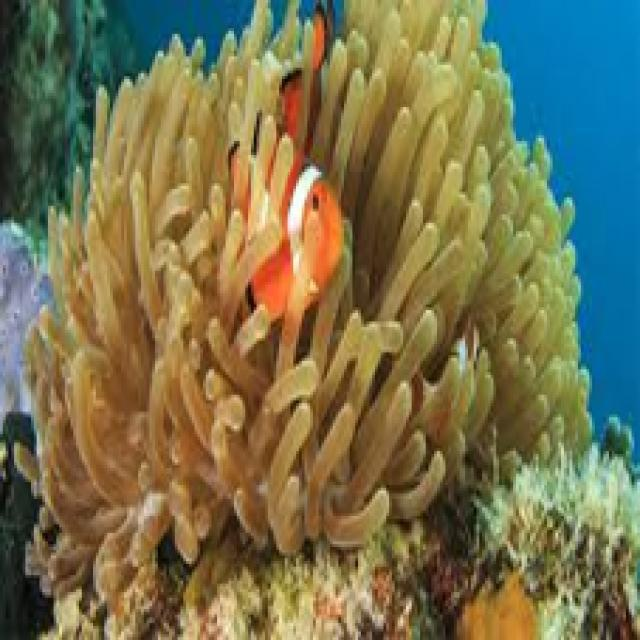Healthy: (42, 328, 581, 547), (32, 54, 242, 582), (350, 15, 575, 485)
